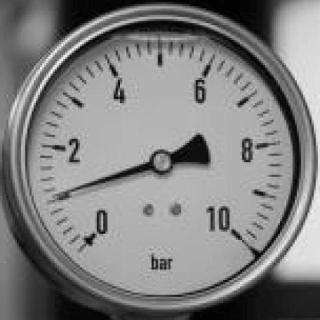gauge: (0, 0, 320, 316), (201, 204, 249, 255), (72, 205, 116, 258), (150, 148, 175, 176), (51, 189, 65, 201)
